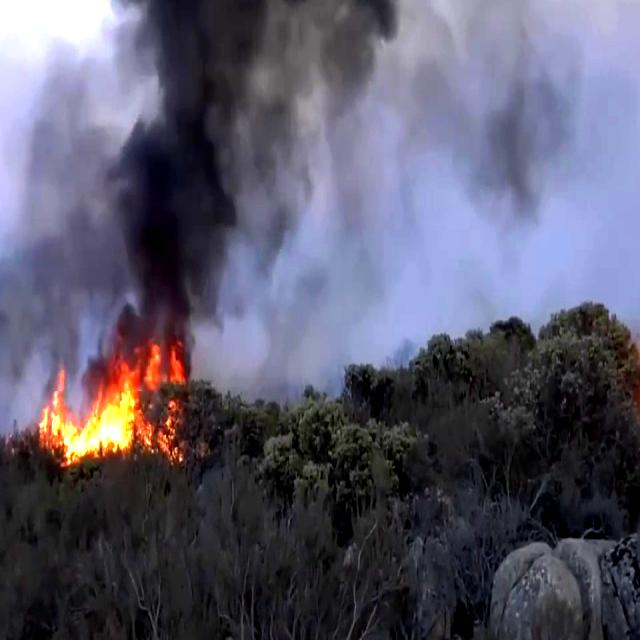fire: (40, 336, 178, 510)
smoke: (119, 0, 532, 314)
